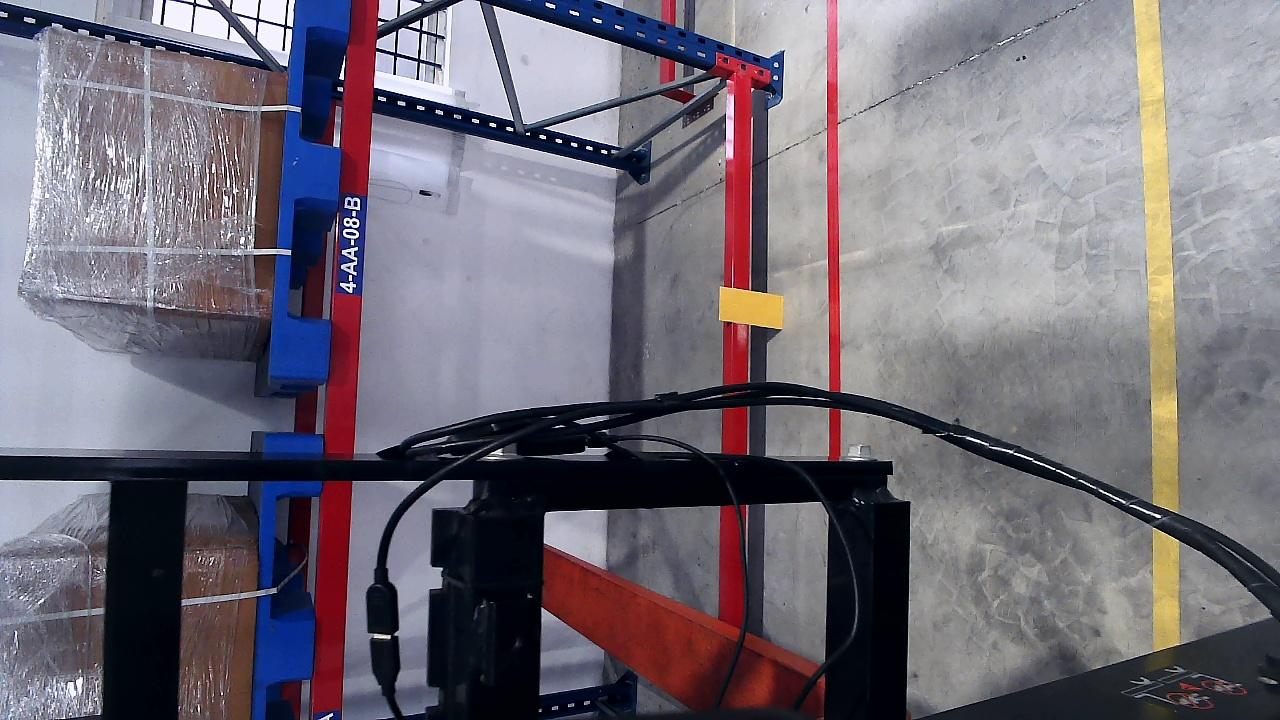h_rack: (323, 0, 380, 458), (309, 480, 356, 716), (728, 74, 755, 384)
orange_strip: (719, 285, 784, 328)
red_line: (823, 4, 842, 389)
small_pallet: (268, 0, 352, 380), (253, 426, 322, 719)
yellow_line: (1135, 0, 1181, 526)
